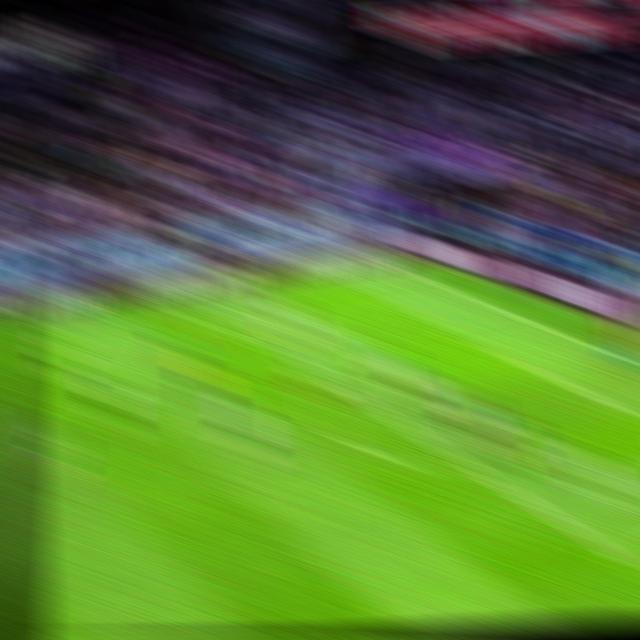bigarea_bottom_inner: (626, 560, 640, 584)
bigarea_top_inner: (243, 327, 280, 353)
bigarea_top_outter: (469, 295, 501, 313)
bottom_arc_area_intersection: (458, 459, 496, 484)
corner: (374, 260, 408, 275)
smallarea_top_inner: (486, 345, 519, 365)
smallarea_top_outter: (562, 331, 593, 351)
top_arc_area_intersection: (327, 379, 362, 404)
